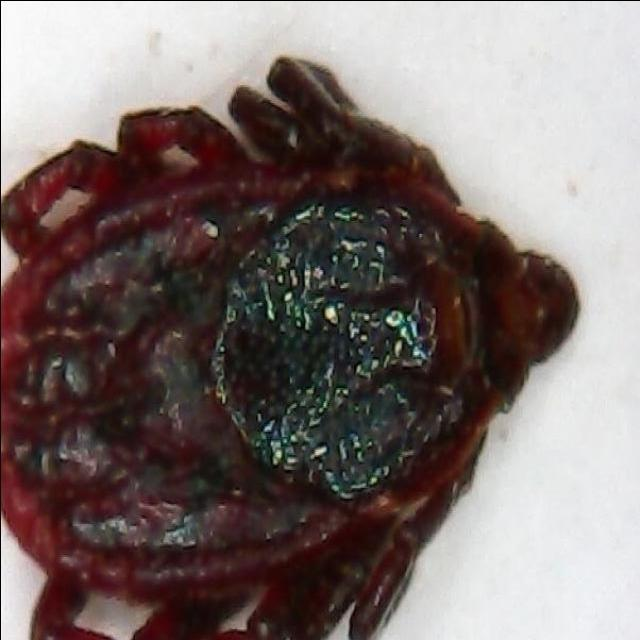Rhipicephalus Sanguineus-F: (0, 64, 580, 640)
